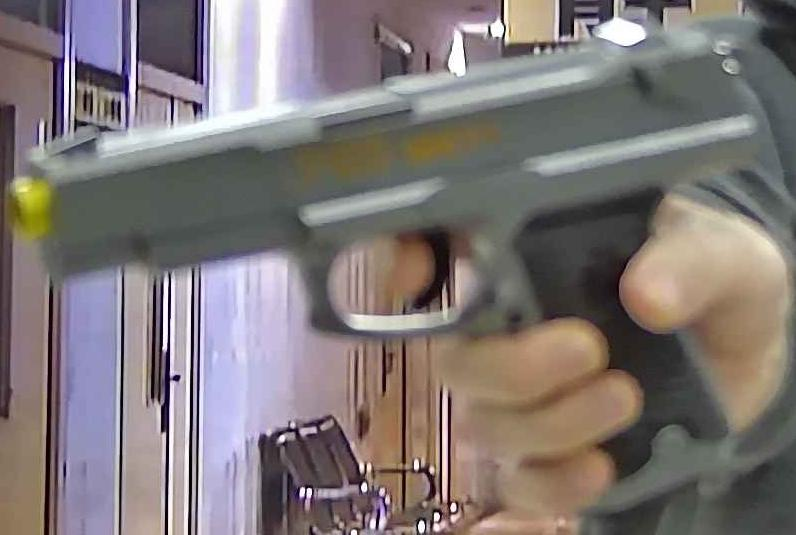gun: (1, 1, 796, 535)
